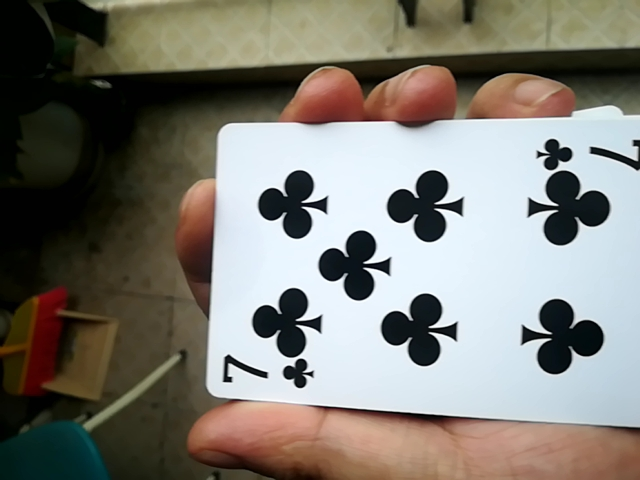mh 7: (185, 115, 629, 425)
